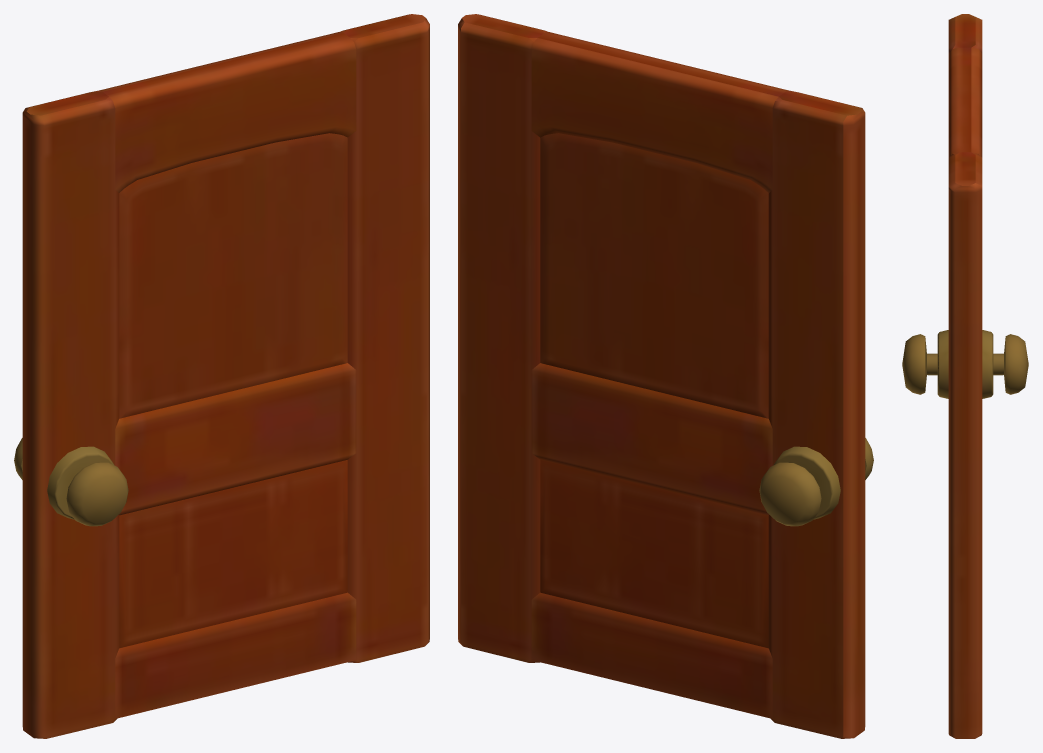
File: door-standard-s.glb
3 views of the same model, side by side, from view 1: azimuth 30°, elevation 25°; view 2: azimuth 150°, elevation 25°; view 3: azimuth 270°, elevation 25° (orthographic). The views are drawn at different scales.
Size of the model in its own units: 12 by 18 by 3.74.
1 material, 1 textured.
